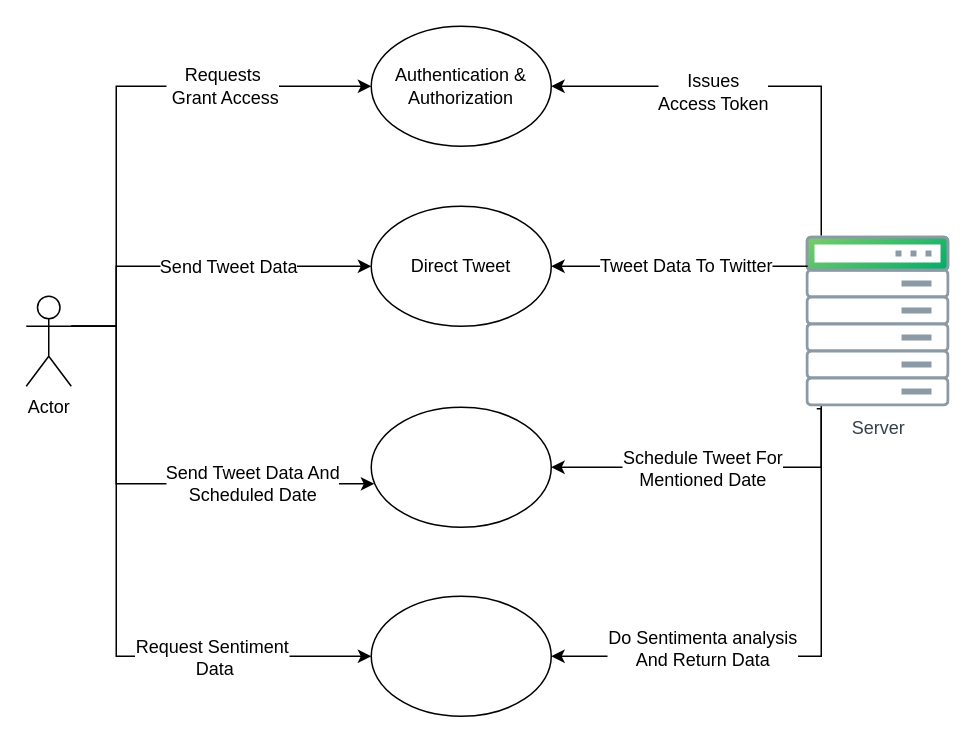
Some shapes in this 977 by 743 pixel diagram are drawn without their labels. The centre of each missing label's shape, as x and y in pixels:
Schedule Tweet: point 460,466
Sentimental Analysis: point 460,655
